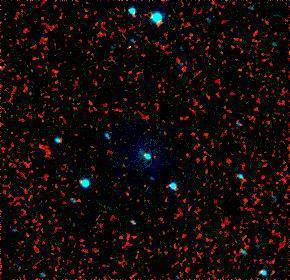star: (123, 31, 153, 61)
